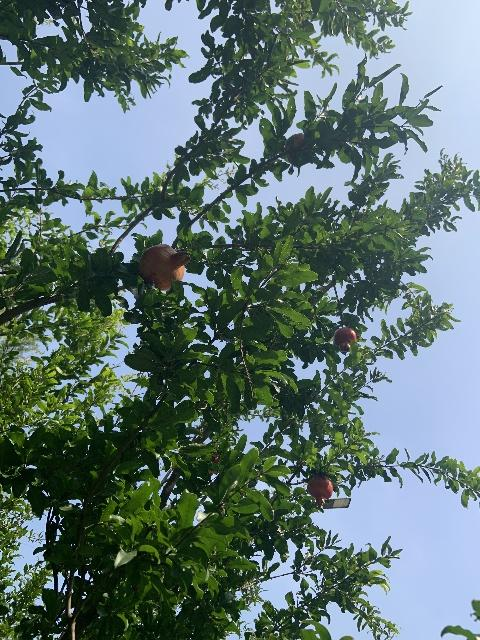ripe: (138, 244, 190, 291), (307, 475, 333, 507), (332, 327, 356, 351)
